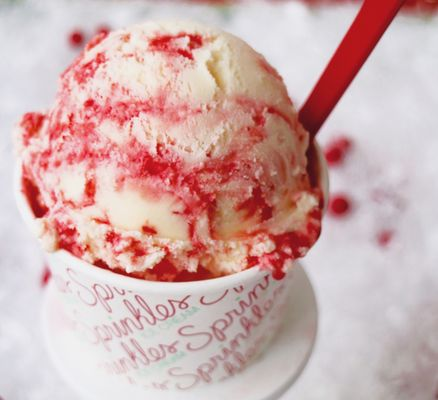sushi: (13, 20, 323, 287)
